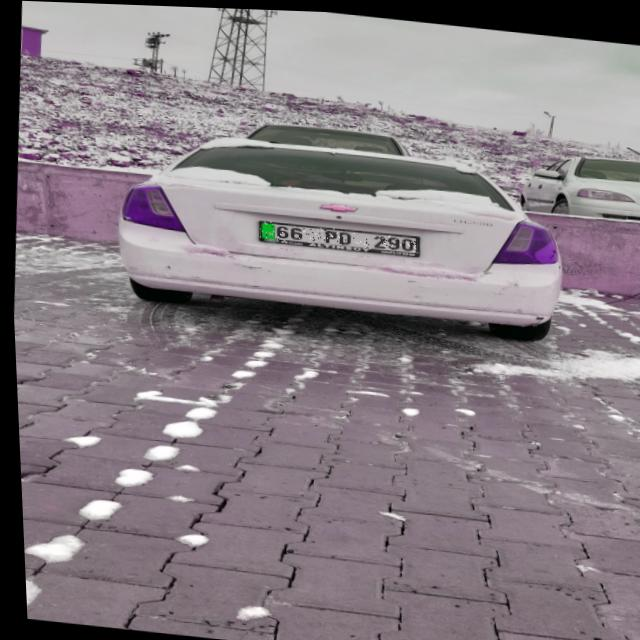license_plate: (255, 218, 417, 252)
